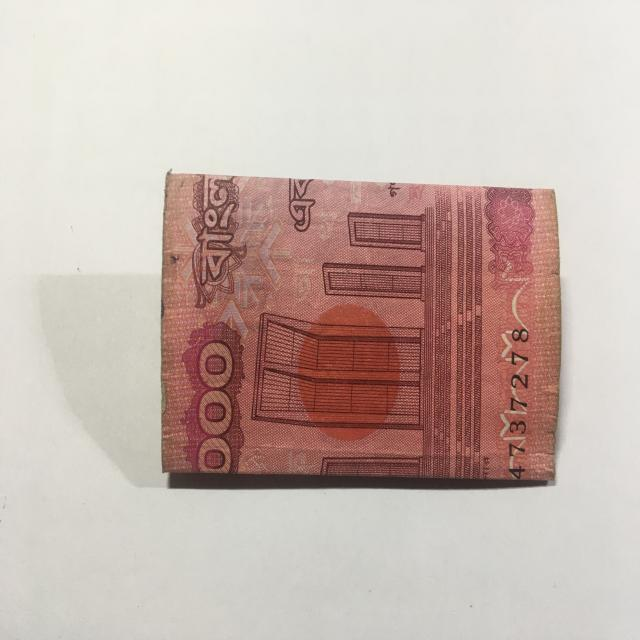Taka: (159, 172, 562, 490)
